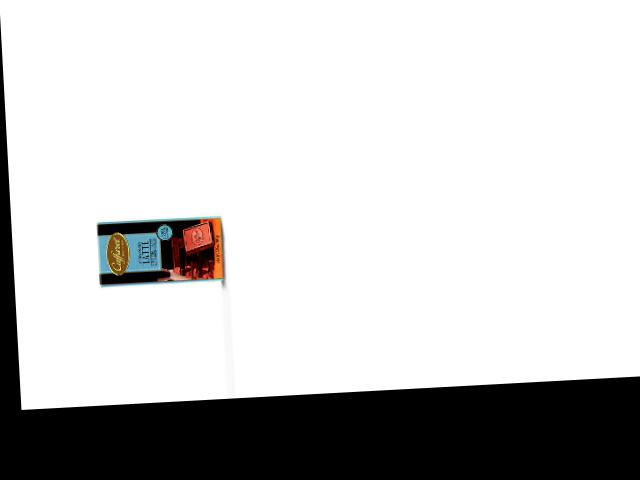chocolate: (95, 214, 226, 289)
